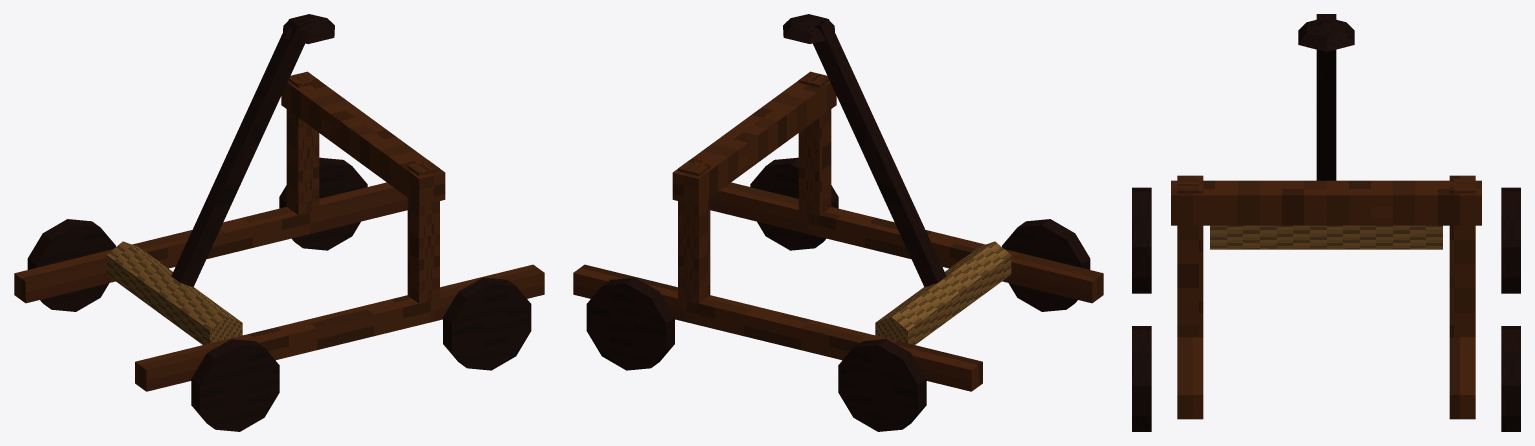
File: catapulta.glb
3 renders of one model, left to right at view 1: azimuth 30°, elevation 25°; view 2: azimuth 150°, elevation 25°; view 3: azimuth 270°, elevation 25°, orthographic. The views are drawn at different scales.
Visible parts, largest first — view 1: bastidor, ruedas_der, montantes, brazo, ruedas_izq, torsion, cuchara; view 2: bastidor, ruedas_izq, montantes, brazo, ruedas_der, torsion, cuchara; view 3: bastidor, montantes, torsion, ruedas_izq, ruedas_der, brazo, cuchara.
Boxes of the visible parts, box(x1,y1,x2,y2) form: bastidor: box(14, 73, 544, 391); ruedas_der: box(191, 277, 531, 431); montantes: box(286, 71, 439, 323); brazo: box(171, 19, 304, 287); ruedas_izq: box(27, 157, 367, 311); torsion: box(106, 241, 242, 344); cuchara: box(282, 14, 334, 43); bastidor: box(573, 73, 1103, 391); ruedas_izq: box(586, 277, 926, 431); montantes: box(678, 71, 831, 324); brazo: box(813, 19, 946, 287); ruedas_der: box(750, 157, 1090, 311); torsion: box(875, 241, 1011, 344); cuchara: box(783, 14, 835, 43); bastidor: box(1171, 175, 1481, 419); montantes: box(1177, 179, 1475, 337); torsion: box(1210, 225, 1442, 249); ruedas_izq: box(1501, 187, 1520, 431); ruedas_der: box(1132, 187, 1151, 431); brazo: box(1316, 14, 1336, 180); cuchara: box(1298, 19, 1354, 51).
Bounding box in the file's own units: 4 × 3 × 3.
Materials: 1 (1 with a texture image).
